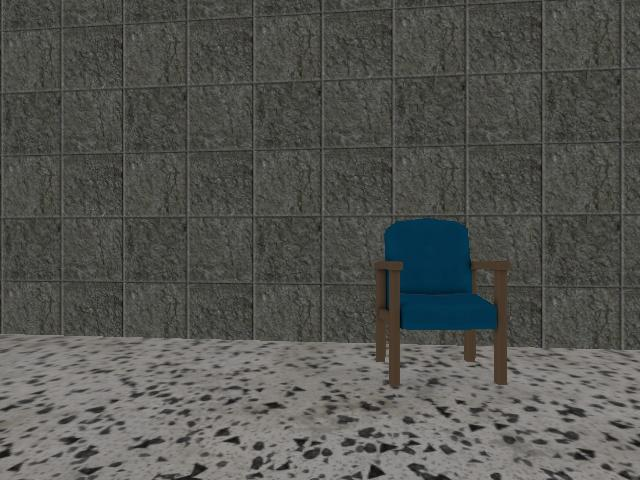chair: (374, 219, 513, 388)
